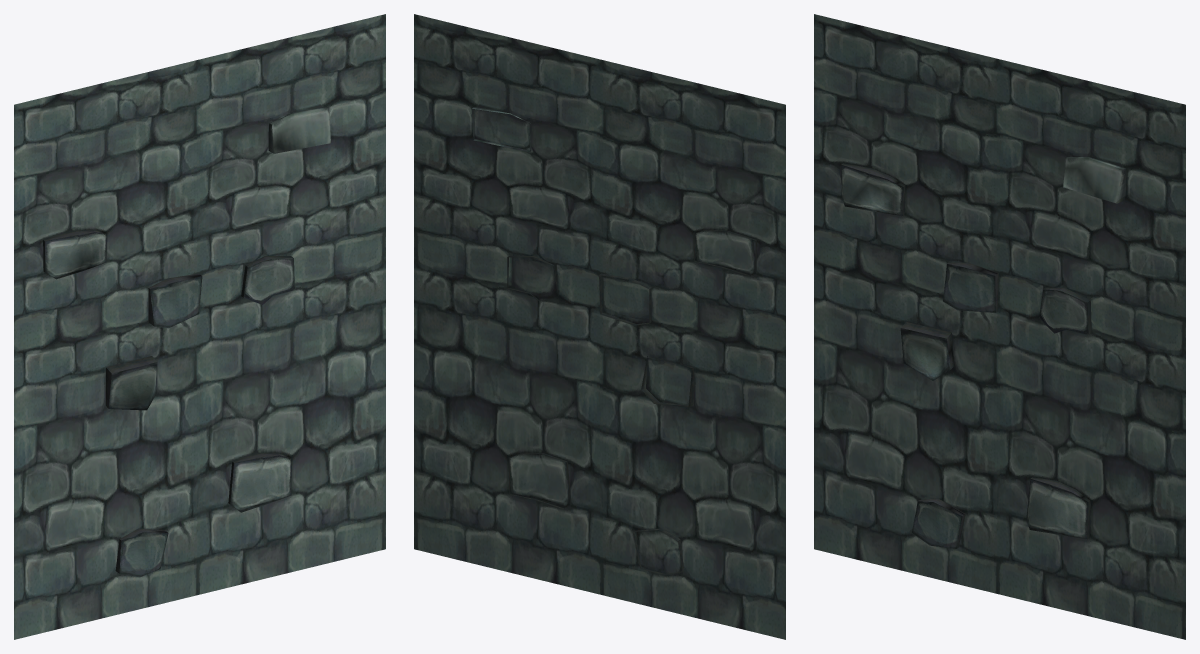
The model's file is crypt_wall_straight_03.fbx.
3 renders of one model, left to right at view 1: azimuth 30°, elevation 25°; view 2: azimuth 150°, elevation 25°; view 3: azimuth 330°, elevation 25°, orthographic.
Visible parts, largest first — view 1: crypt_wall_straight_03-0; view 2: crypt_wall_straight_03-0; view 3: crypt_wall_straight_03-0.
Part boxes in pixels (x1=…): crypt_wall_straight_03-0: x1=14, y1=14, x2=385, y2=639; crypt_wall_straight_03-0: x1=414, y1=14, x2=785, y2=639; crypt_wall_straight_03-0: x1=814, y1=14, x2=1185, y2=639.
Bounding box in the file's own units: 4 × 5.5 × 0.2418.
